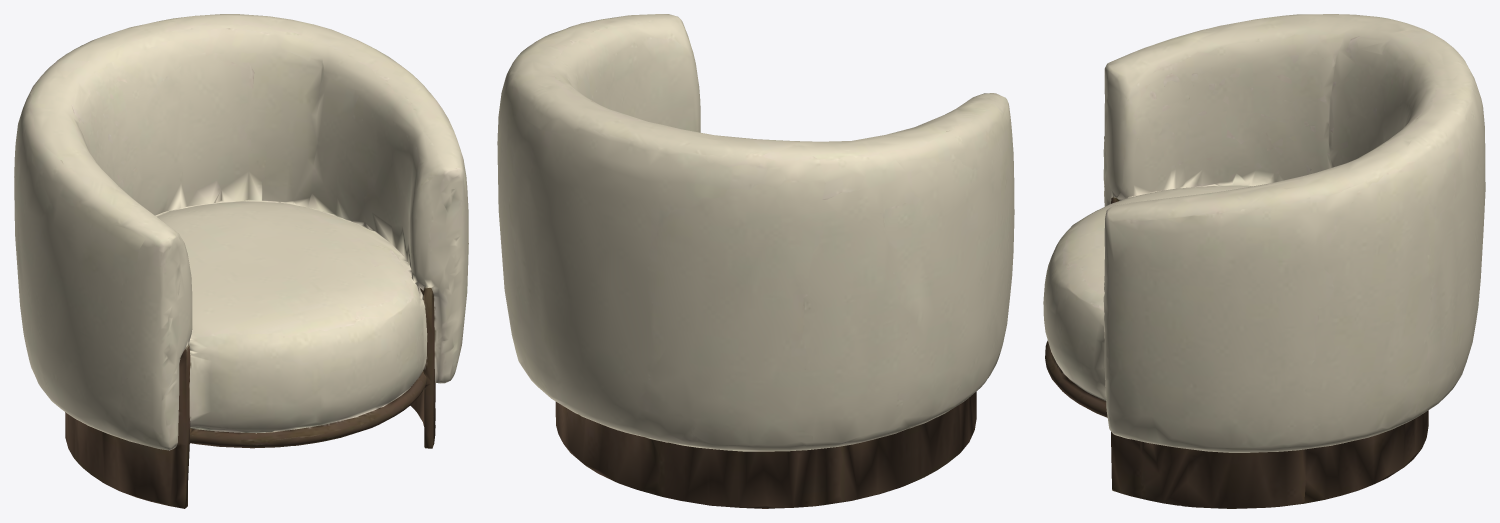
File: JIpVzDvmWmvDYlhGAdEyQ.glb
3 renders of one model, left to right at view 1: azimuth 30°, elevation 25°; view 2: azimuth 150°, elevation 25°; view 3: azimuth 270°, elevation 25°, orthographic. The views are drawn at different scales.
Visible parts, largest first — view 1: geometry_0; view 2: geometry_0; view 3: geometry_0.
Part boxes in pixels (x1,y1,x2,y2): geometry_0: (14,14,468,508); geometry_0: (497,14,1014,508); geometry_0: (1043,14,1485,508).
Size of the model in its own units: 1 by 0.8187 by 0.944.
1 material, 1 textured.
